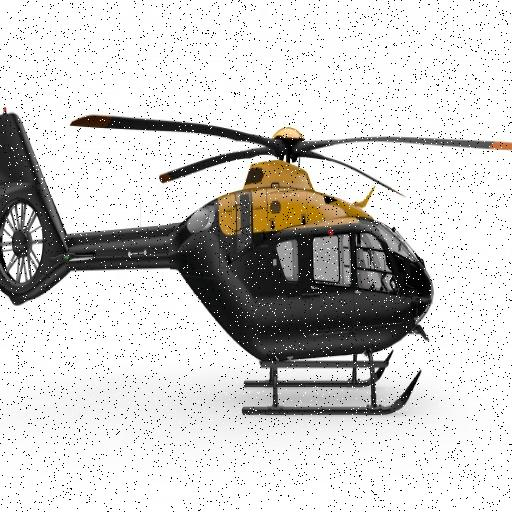helicopter: (1, 113, 512, 431)
